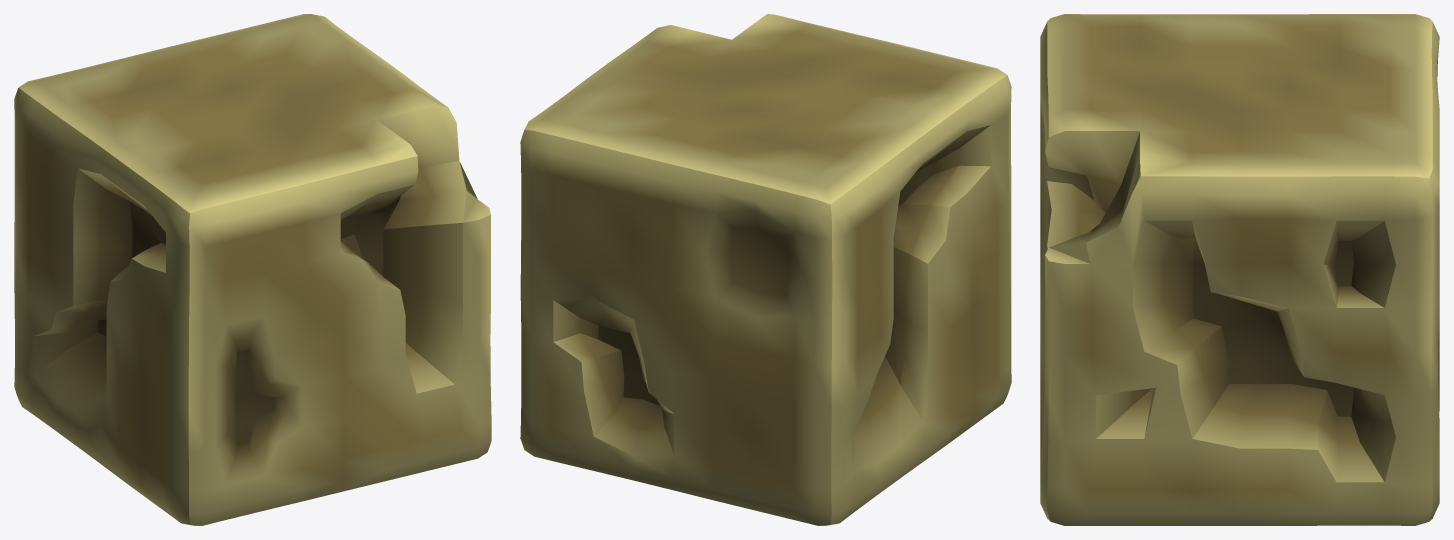
File: CrackedCube.fbx
The picture shows the model from 3 angles, left to right: view 1: azimuth 30°, elevation 25°; view 2: azimuth 150°, elevation 25°; view 3: azimuth 270°, elevation 25°; orthographic projection. The views are drawn at different scales.
Visible parts, largest first — view 1: Cube; view 2: Cube; view 3: Cube.
Part boxes in pixels (x1,y1,x2,y2): Cube: [14, 14, 491, 525]; Cube: [520, 14, 1011, 525]; Cube: [1040, 14, 1439, 525].
Size of the model in its own units: 200 by 200 by 200.
